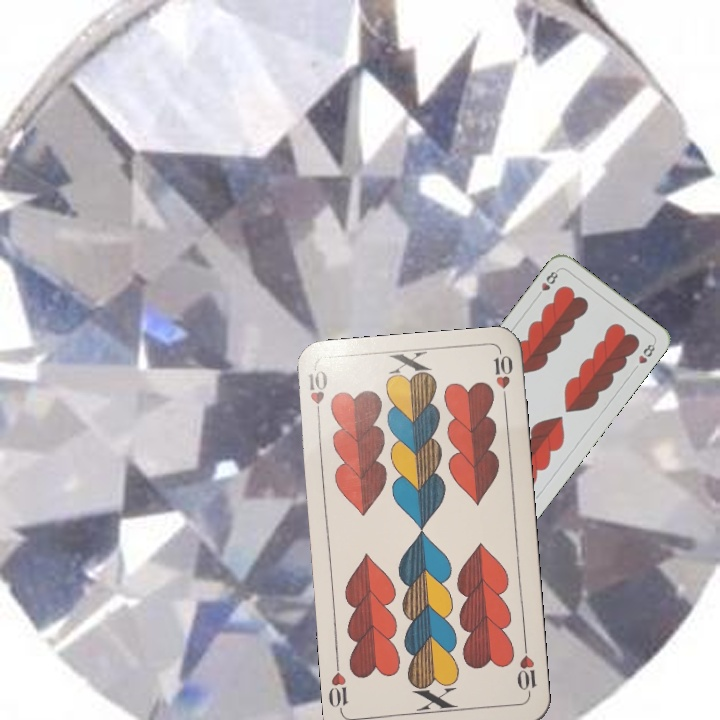H10: (513, 640, 539, 699), (304, 366, 330, 424)
H8: (532, 266, 561, 301)
